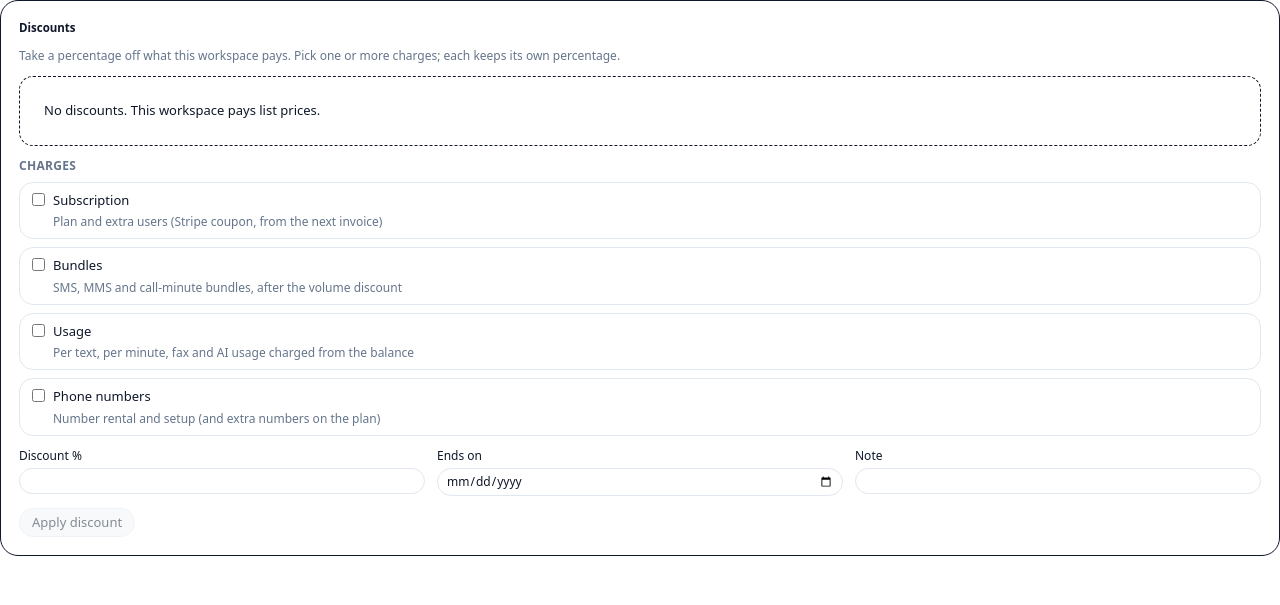
it: OrgDiscountsPanel › warns when Stripe could not be updated
This screenshot has width=1280, height=605.
Click the checkbox labelled "Usage": (38, 330) x1=32 y1=324 x2=45 y2=337
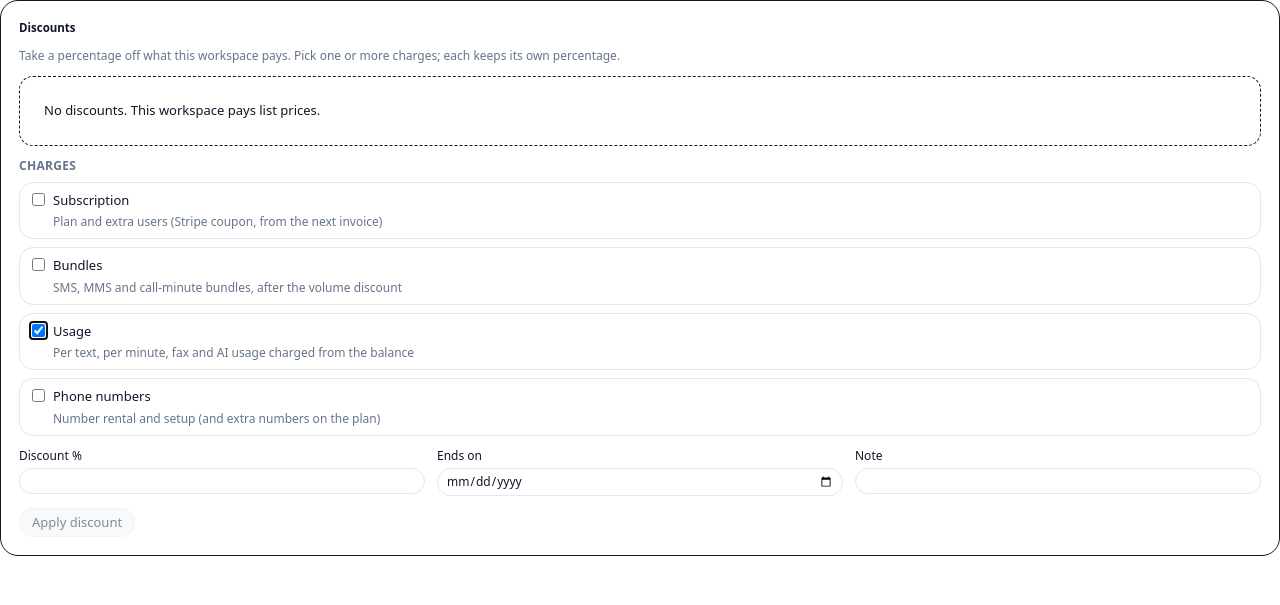
In the number field labelled "Discount %": (222, 481) x1=19 y1=468 x2=425 y2=494, type "10"
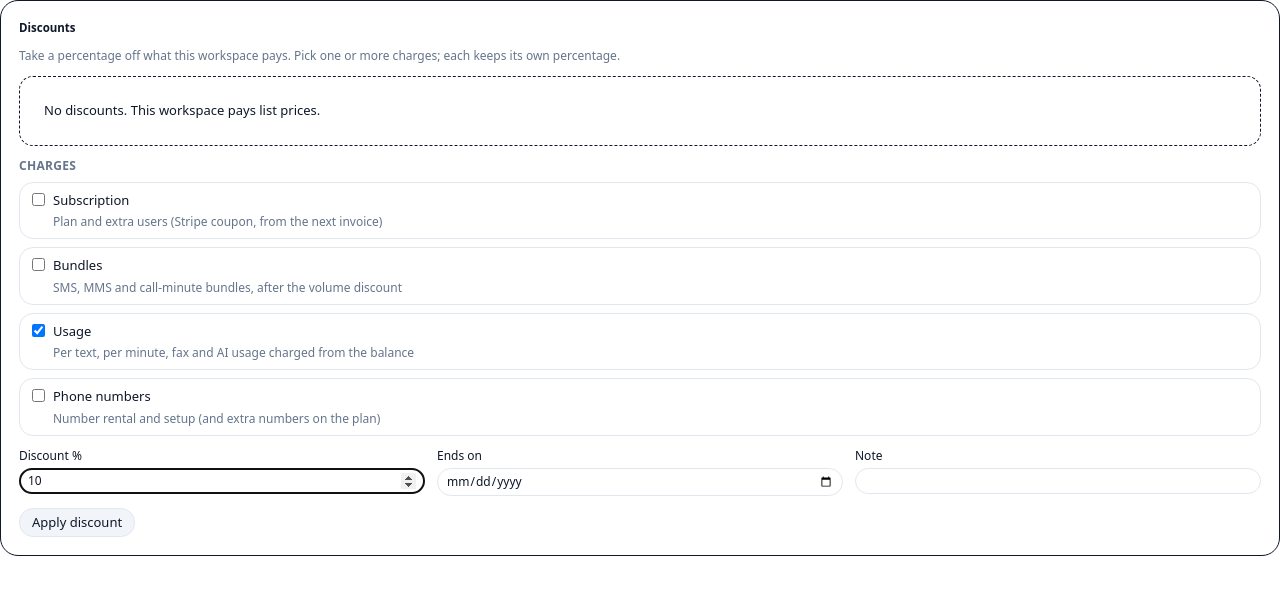
Click the button "Apply discount": (77, 523) x1=19 y1=508 x2=135 y2=537
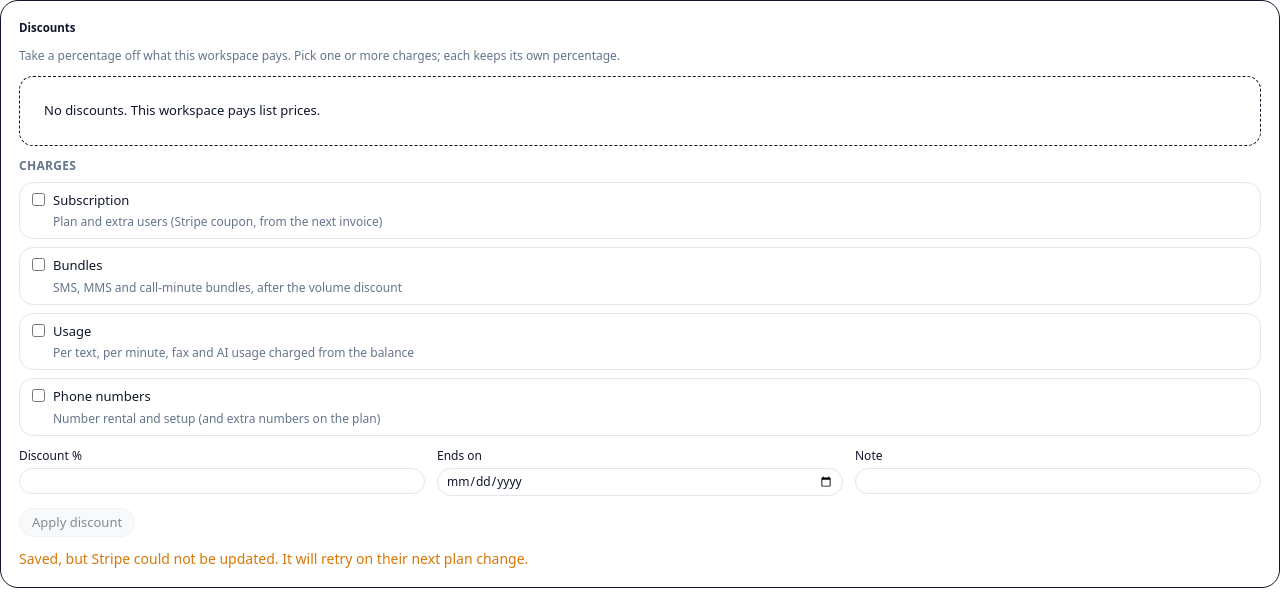
Expected: the text "Saved, but Stripe could not be updated. It will retry on their next plan change." is shown, x1=19 y1=549 x2=528 y2=568
